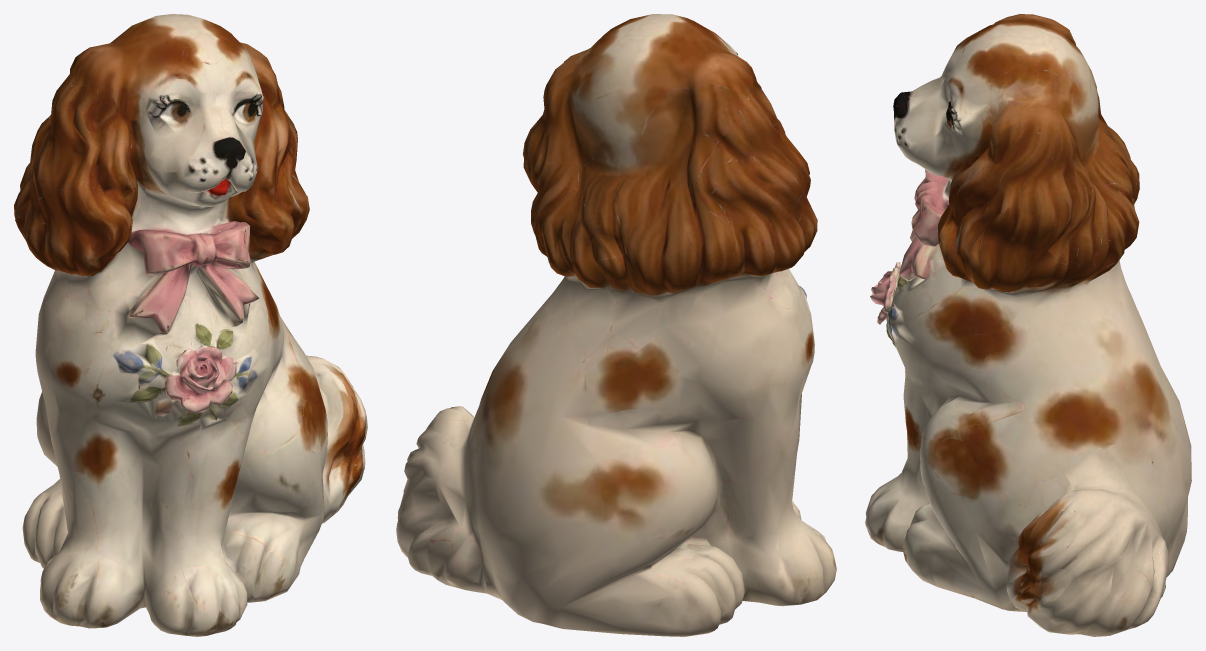
File: d_dogfigure.glb
The picture shows the model from 3 angles, left to right: view 1: azimuth 30°, elevation 25°; view 2: azimuth 150°, elevation 25°; view 3: azimuth 270°, elevation 25°; orthographic projection. The views are drawn at different scales.
Bounding box in the file's own units: 1.31 × 1.9 × 1.07.
Materials: 1 (1 with a texture image).
